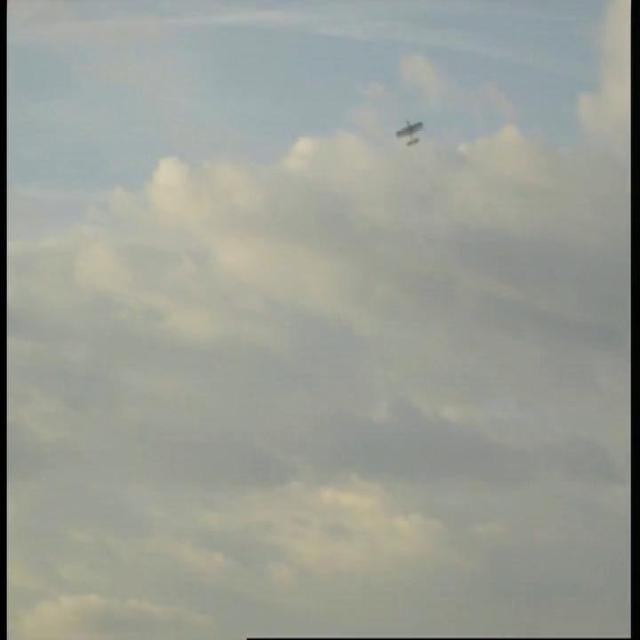drone: (390, 113, 430, 151)
